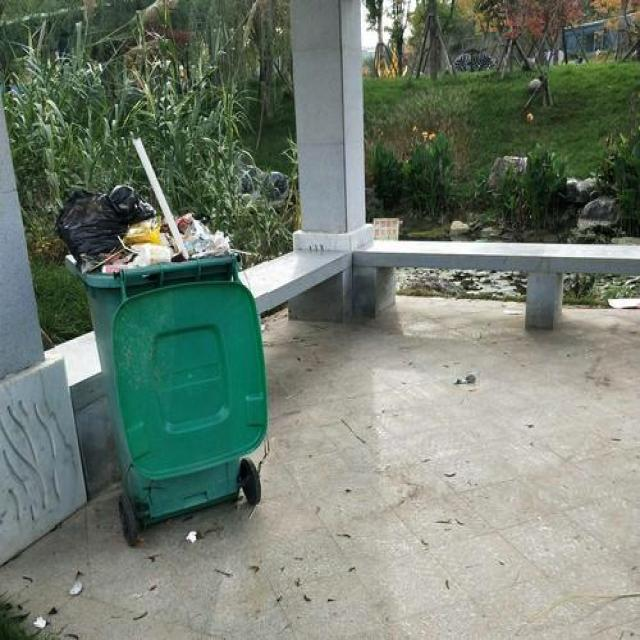overflow: (55, 138, 268, 528)
